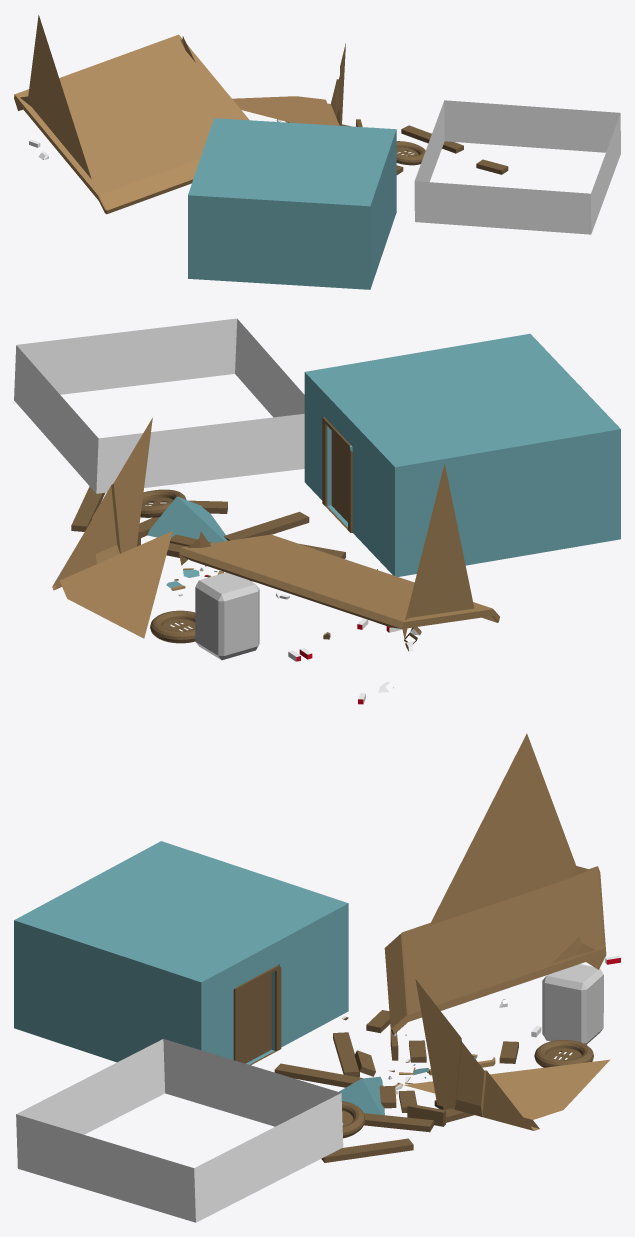
File: casa das tropas (construtor) quebrada.fbx
The picture shows the model from 3 angles, top to bottom: view 1: azimuth 30°, elevation 25°; view 2: azimuth 150°, elevation 25°; view 3: azimuth 270°, elevation 25°; orthographic projection. The views are drawn at different scales.
Visible parts, largest first — view 1: Torus.003_cell.035, Torus.003_cell.001, Torus.003_cell.036, Torus.003_cell.003, Torus.003_cell.006, Torus.003_cell.007; view 2: Torus.003_cell.035, Torus.003_cell.036, Torus.003_cell.001, Torus.003_cell.003, Torus.003_cell.022, Torus.003_cell.002, Torus.003_cell.025, Torus.003_cell.010, Torus.003_cell.006, Torus.003_cell.007; view 3: Torus.003_cell.035, Torus.003_cell.036, Torus.003_cell.001, Torus.003_cell.003, Torus.003_cell.022, Torus.003_cell.025, Torus.003_cell.002, Torus.003_cell.007, Torus.003_cell.010, Torus.003_cell.039, Torus.003_cell.026, Torus.003_cell.006.
Part boxes in pixels (left/top/right/bottom): Torus.003_cell.035: left=188, top=118, right=396, bottom=289; Torus.003_cell.001: left=14, top=15, right=249, bottom=214; Torus.003_cell.036: left=414, top=100, right=620, bottom=234; Torus.003_cell.003: left=232, top=43, right=345, bottom=125; Torus.003_cell.006: left=396, top=141, right=425, bottom=165; Torus.003_cell.007: left=401, top=125, right=463, bottom=153; Torus.003_cell.035: left=304, top=333, right=620, bottom=576; Torus.003_cell.036: left=14, top=318, right=304, bottom=493; Torus.003_cell.001: left=179, top=464, right=499, bottom=639; Torus.003_cell.003: left=52, top=417, right=172, bottom=638; Torus.003_cell.022: left=195, top=572, right=259, bottom=660; Torus.003_cell.002: left=147, top=496, right=227, bottom=543; Torus.003_cell.025: left=150, top=610, right=195, bottom=643; Torus.003_cell.010: left=223, top=511, right=309, bottom=540; Torus.003_cell.006: left=140, top=489, right=186, bottom=517; Torus.003_cell.007: left=71, top=486, right=105, bottom=531; Torus.003_cell.035: left=14, top=841, right=348, bottom=1065; Torus.003_cell.036: left=16, top=1039, right=343, bottom=1222; Torus.003_cell.001: left=384, top=733, right=606, bottom=1035; Torus.003_cell.003: left=403, top=979, right=609, bottom=1130; Torus.003_cell.022: left=542, top=964, right=603, bottom=1044; Torus.003_cell.025: left=534, top=1040, right=593, bottom=1067; Torus.003_cell.002: left=339, top=1076, right=384, bottom=1115; Torus.003_cell.007: left=321, top=1138, right=413, bottom=1162; Torus.003_cell.010: left=274, top=1063, right=362, bottom=1087; Torus.003_cell.039: left=363, top=1113, right=433, bottom=1132; Torus.003_cell.026: left=333, top=1032, right=359, bottom=1077; Torus.003_cell.006: left=341, top=1101, right=365, bottom=1138.
Bounding box in the file's own units: 569 × 196 × 509.
